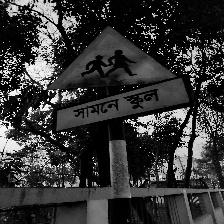School-in-front: (46, 25, 192, 133)
